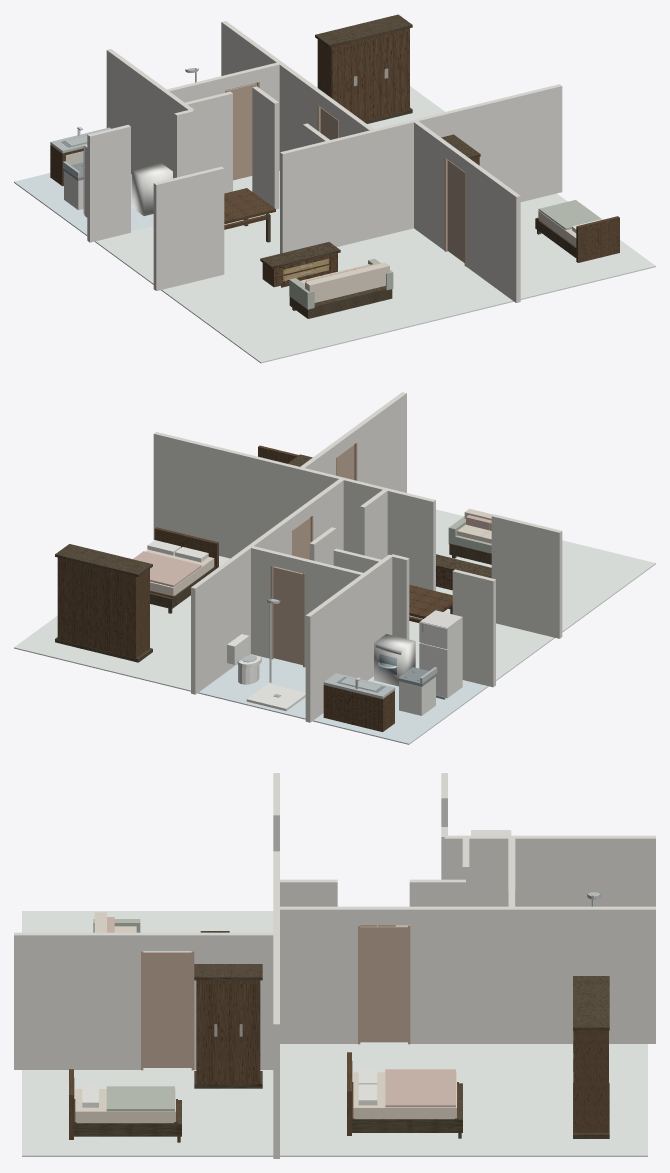
3 renders of one model, top to bottom at view 1: azimuth 30°, elevation 25°; view 2: azimuth 150°, elevation 25°; view 3: azimuth 270°, elevation 25°, orthographic. The views are drawn at different scales.
Parts seen in each view (by area): view 1: H14_WALL_02, H14_FLOOR_01_SALA, H14_WALL_03, H14_WALL_00, H14_WALL_09, H14_FLOOR_00_QUARTO_2, H14_WALL_13, H14_WALL_05, H14_FLOOR_04_JANTAR, H14_WALL_01, H14_WALL_08, H14_WALL_07 (+23 smaller); view 2: H14_WALL_02, H14_WALL_09, H14_FURN_05_wardrobe__06__corpo, H14_WALL_03, H14_WALL_05, H14_FLOOR_02_QUARTO_1, H14_FLOOR_01_SALA, H14_WALL_13, H14_WALL_00, H14_FLOOR_07_BANHEIRO, H14_FLOOR_08_COZINHA_SERVICO, H14_DOOR_02_LEAF (+27 smaller); view 3: H14_WALL_05, H14_FLOOR_02_QUARTO_1, H14_WALL_00, H14_FLOOR_00_QUARTO_2, H14_WALL_09, H14_WALL_04, H14_DOOR_00_LEAF, H14_DOOR_01_LEAF, H14_FLOOR_01_SALA, H14_WALL_01, H14_FURN_05_wardrobe__06__corpo, H14_FURN_01_wardrobe__03__porta_direita (+15 smaller).
Boxes of the visible parts, x1=… form: H14_WALL_02: x1=280, y1=84, x2=562, y2=253; H14_FLOOR_01_SALA: x1=161, y1=228, x2=513, y2=363; H14_WALL_03: x1=153, y1=166, x2=224, y2=290; H14_WALL_00: x1=465, y1=159, x2=520, y2=302; H14_WALL_09: x1=106, y1=49, x2=194, y2=178; H14_FLOOR_00_QUARTO_2: x1=520, y1=193, x2=655, y2=299; H14_WALL_13: x1=87, y1=124, x2=130, y2=242; H14_WALL_05: x1=221, y1=21, x2=322, y2=170; H14_FLOOR_04_JANTAR: x1=95, y1=209, x2=279, y2=284; H14_WALL_01: x1=413, y1=120, x2=449, y2=250; H14_WALL_08: x1=183, y1=91, x2=232, y2=193; H14_WALL_07: x1=252, y1=86, x2=279, y2=209; H14_WALL_02: x1=153, y1=432, x2=435, y2=590; H14_WALL_09: x1=305, y1=554, x2=392, y2=722; H14_FURN_05_wardrobe__06__corpo: x1=57, y1=557, x2=149, y2=658; H14_WALL_03: x1=491, y1=514, x2=562, y2=638; H14_WALL_05: x1=191, y1=516, x2=292, y2=694; H14_FLOOR_02_QUARTO_1: x1=14, y1=549, x2=229, y2=691; H14_FLOOR_01_SALA: x1=436, y1=509, x2=655, y2=632; H14_WALL_13: x1=452, y1=569, x2=495, y2=687; H14_WALL_00: x1=352, y1=392, x2=406, y2=492; H14_FLOOR_07_BANHEIRO: x1=198, y1=654, x2=305, y2=719; H14_FLOOR_08_COZINHA_SERVICO: x1=312, y1=667, x2=488, y2=744; H14_DOOR_02_LEAF: x1=273, y1=566, x2=302, y2=665; H14_WALL_05: x1=409, y1=906, x2=655, y2=1043; H14_FLOOR_02_QUARTO_1: x1=280, y1=1042, x2=647, y2=1156; H14_WALL_00: x1=14, y1=932, x2=142, y2=1069; H14_FLOOR_00_QUARTO_2: x1=22, y1=1068, x2=273, y2=1156; H14_WALL_09: x1=444, y1=835, x2=655, y2=906; H14_WALL_04: x1=280, y1=906, x2=358, y2=1043; H14_DOOR_00_LEAF: x1=143, y1=952, x2=191, y2=1067; H14_DOOR_01_LEAF: x1=360, y1=926, x2=407, y2=1042; H14_FLOOR_01_SALA: x1=22, y1=911, x2=273, y2=1068; H14_WALL_01: x1=193, y1=932, x2=275, y2=1069; H14_FURN_05_wardrobe__06__corpo: x1=573, y1=1030, x2=608, y2=1132; H14_FURN_01_wardrobe__03__porta_direita: x1=196, y1=984, x2=227, y2=1081.
Bounding box in the file's own units: 9.73 × 2.46 × 10.51.
Materials: 21 (3 with a texture image).
